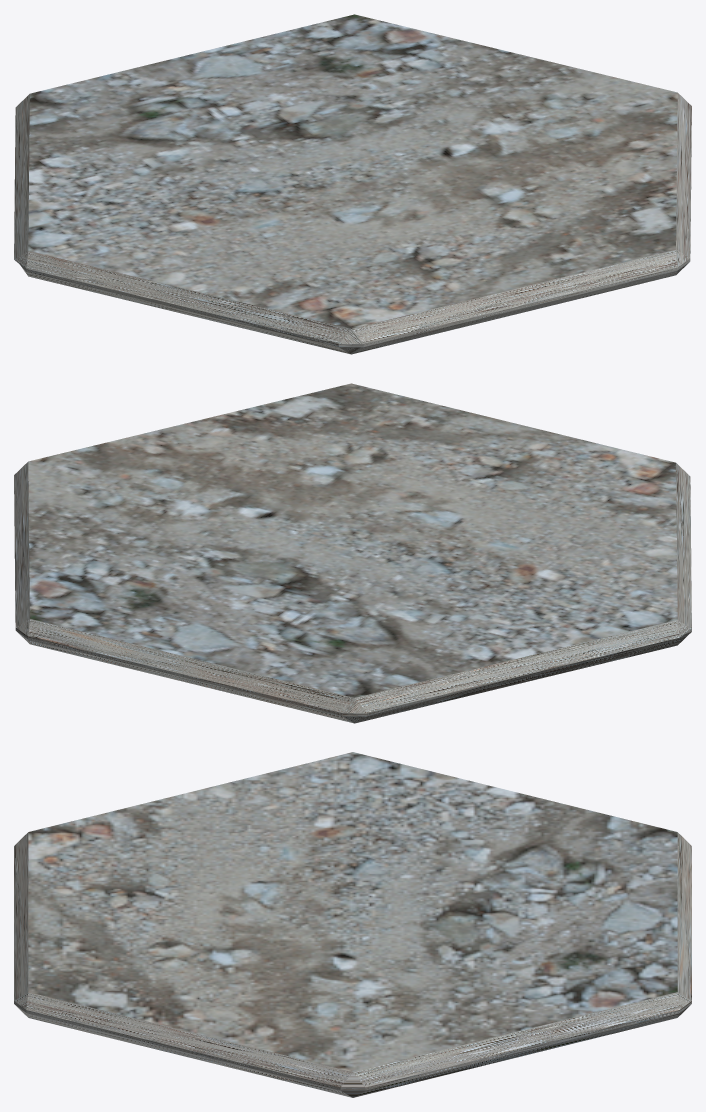
The model's file is hexagonBerg2.fbx.
3 views of the same model, one above another, from view 1: azimuth 30°, elevation 25°; view 2: azimuth 150°, elevation 25°; view 3: azimuth 270°, elevation 25° (orthographic).
Parts seen in each view (by area): view 1: Cylinder.001; view 2: Cylinder.001; view 3: Cylinder.001.
Part boxes in pixels (box(x1,y1,x2,y2)): Cylinder.001: box(14, 14, 691, 354); Cylinder.001: box(14, 383, 691, 723); Cylinder.001: box(14, 752, 691, 1097).
Bounding box in the file's own units: 115 × 4.22 × 100.
Materials: 1 (1 with a texture image).
